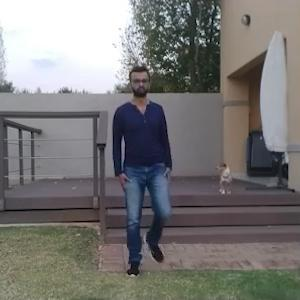follow: (113, 68, 163, 267)
